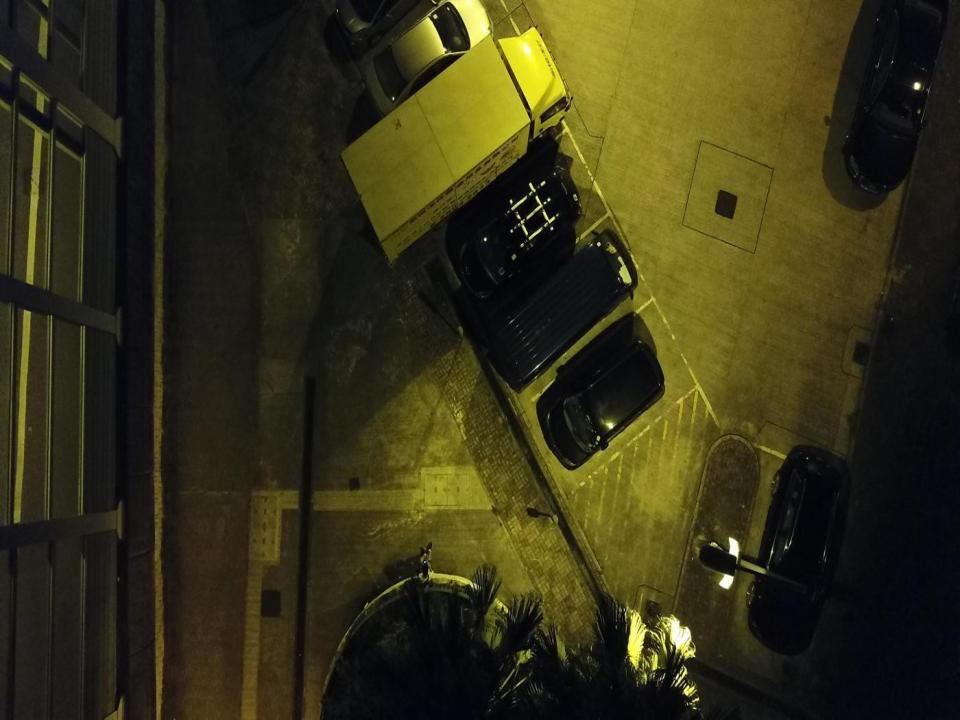car: (746, 443, 854, 660), (840, 0, 952, 194), (456, 165, 583, 302), (363, 0, 495, 122), (547, 334, 665, 468)
truck: (340, 25, 572, 265)
van: (491, 227, 638, 393)
